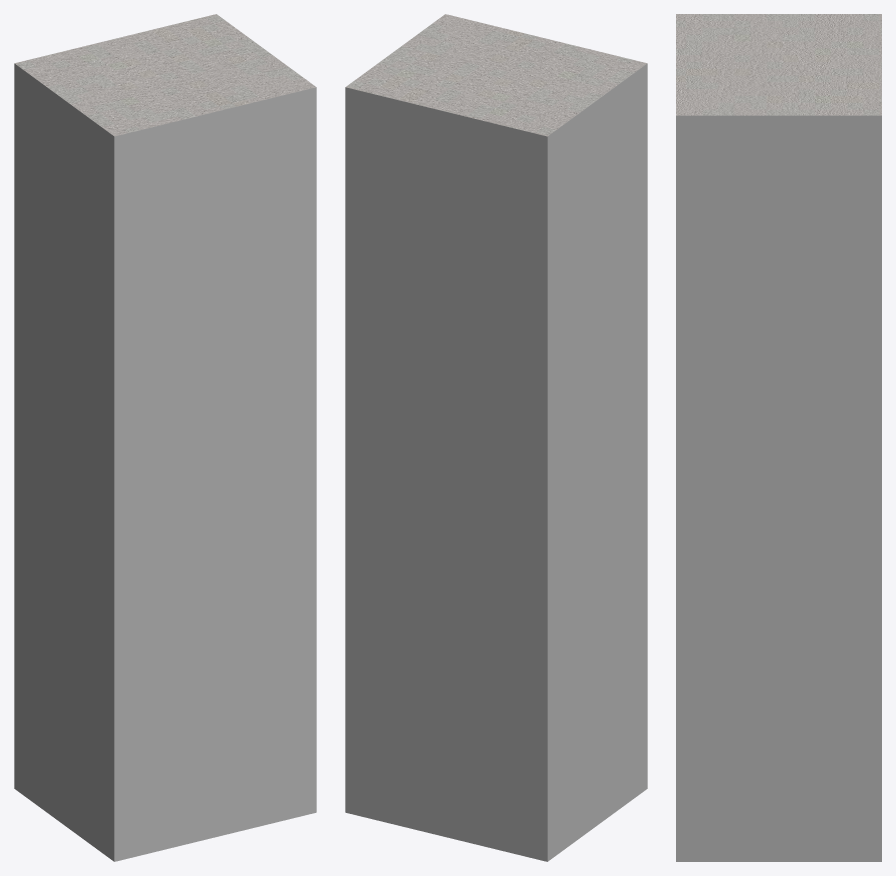
Rendered from Building 3.fbx.
3 renders of one model, left to right at view 1: azimuth 30°, elevation 25°; view 2: azimuth 150°, elevation 25°; view 3: azimuth 270°, elevation 25°, orthographic. The views are drawn at different scales.
Visible parts, largest first — view 1: Building 3; view 2: Building 3; view 3: Building 3.
Part boxes in pixels (x1,y1,x2,y2): Building 3: (14, 14, 316, 861); Building 3: (345, 14, 647, 861); Building 3: (676, 14, 881, 861).
Size of the model in its own units: 1400 by 4800 by 1200.
